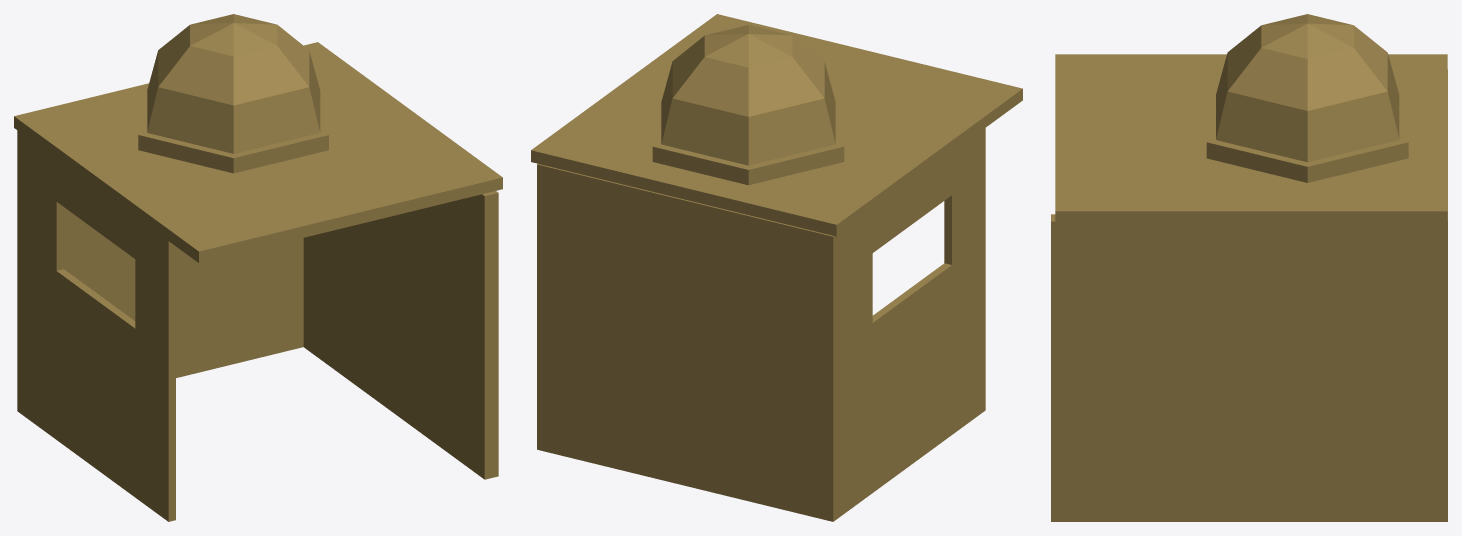
The model's file is desertRuin5.fbx.
3 renders of one model, left to right at view 1: azimuth 30°, elevation 25°; view 2: azimuth 150°, elevation 25°; view 3: azimuth 270°, elevation 25°, orthographic. The views are drawn at different scales.
Visible parts, largest first — view 1: desertRuin7:desertRuin5; view 2: desertRuin7:desertRuin5; view 3: desertRuin7:desertRuin5.
Boxes of the visible parts, x1,y1,x2,y2 form: desertRuin7:desertRuin5: (14,14,502,521); desertRuin7:desertRuin5: (531,14,1022,521); desertRuin7:desertRuin5: (1051,14,1447,521).
Bounding box in the file's own units: 35.32 × 44.41 × 37.67.
